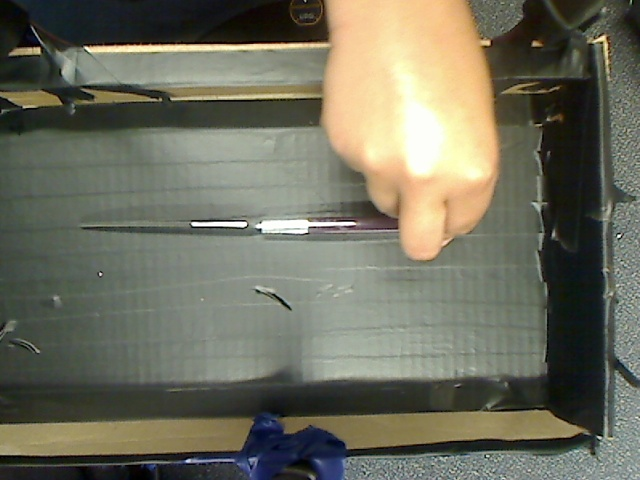knife: (67, 175, 451, 259)
